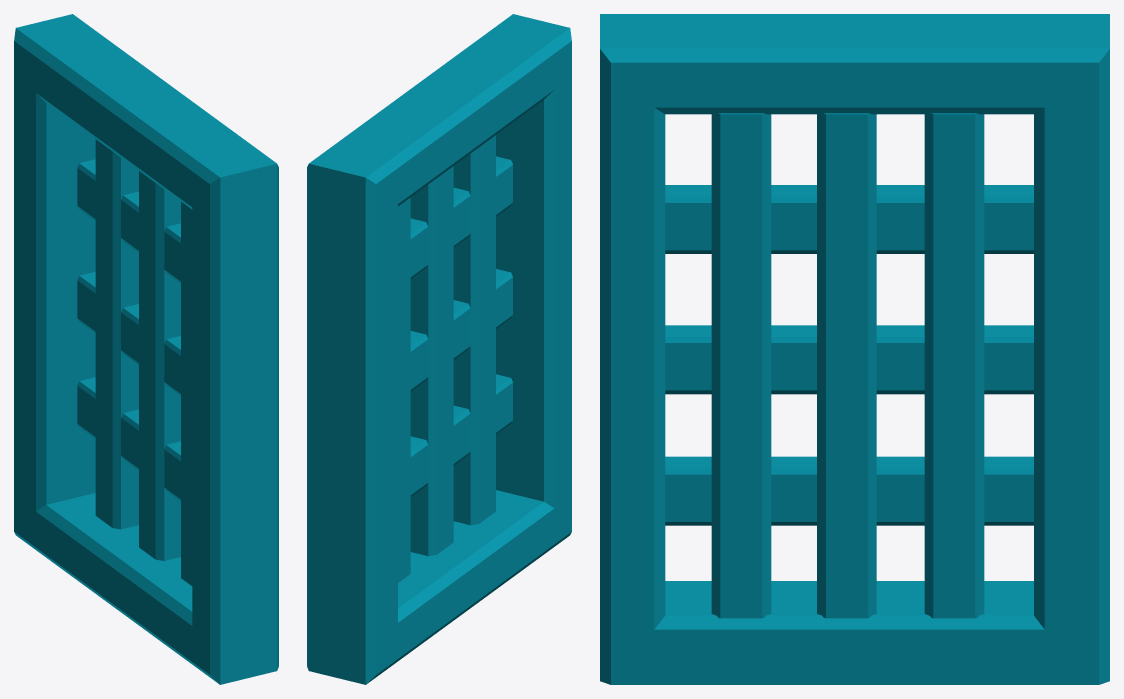
Rendered from small_door.fbx.
3 renders of one model, left to right at view 1: azimuth 30°, elevation 25°; view 2: azimuth 150°, elevation 25°; view 3: azimuth 270°, elevation 25°, orthographic. The views are drawn at different scales.
Visible parts, largest first — view 1: Cube.007_Cube.016; view 2: Cube.007_Cube.016; view 3: Cube.007_Cube.016.
Part boxes in pixels (<box>): Cube.007_Cube.016: <box>14,14,278,684</box>; Cube.007_Cube.016: <box>307,14,571,684</box>; Cube.007_Cube.016: <box>600,14,1109,684</box>.
Bounding box in the file's own units: 22.16 × 156 × 114.
